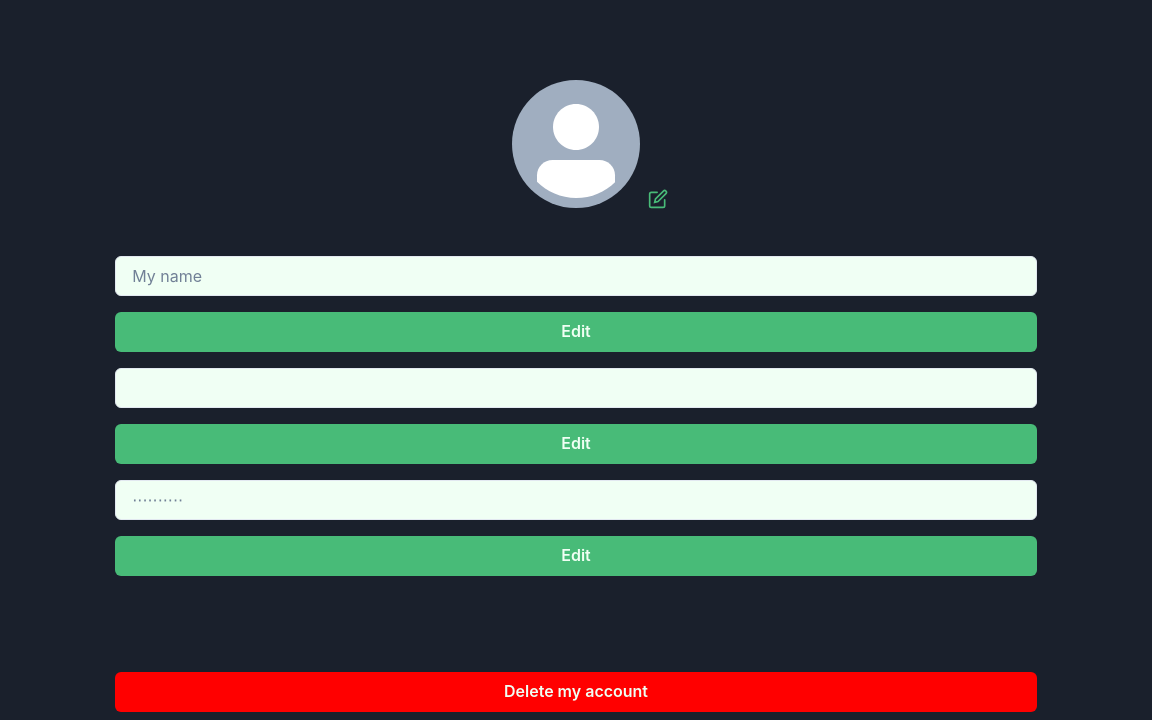
Test: display a modal › display a modal to modify an email address when clicking
Click the button with aria-label "email". click: (576, 444)
box: [115, 424, 1037, 464]
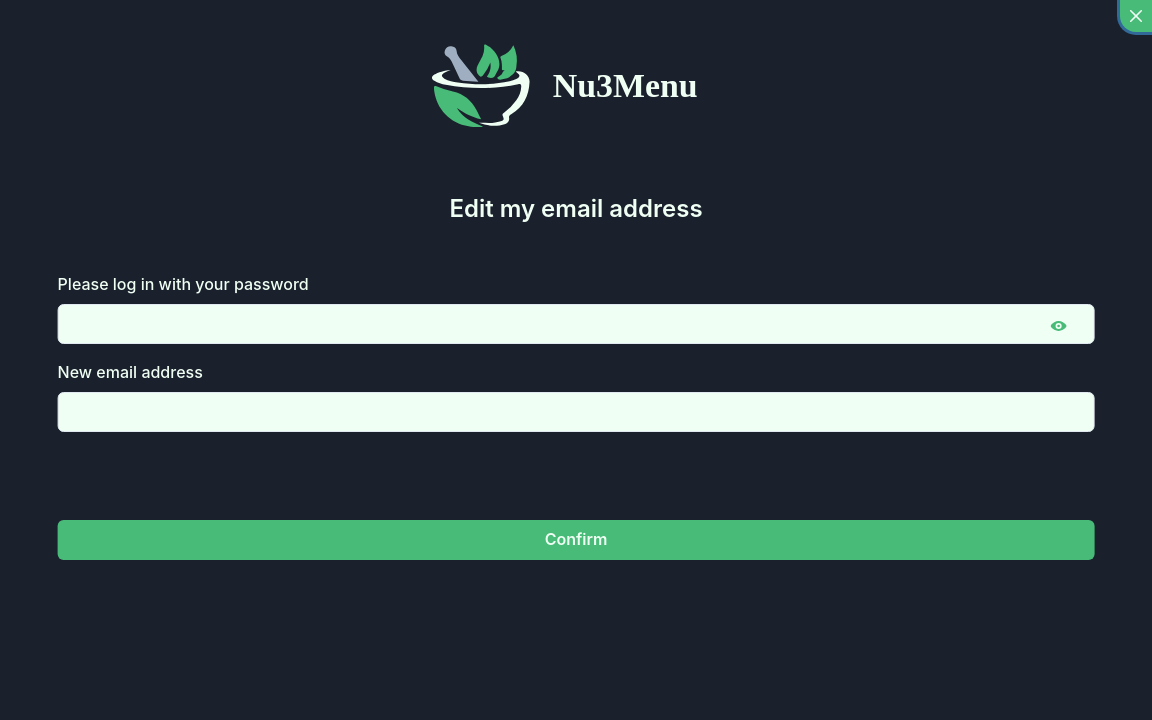
Result: the dialog "Edit my email address" is shown
